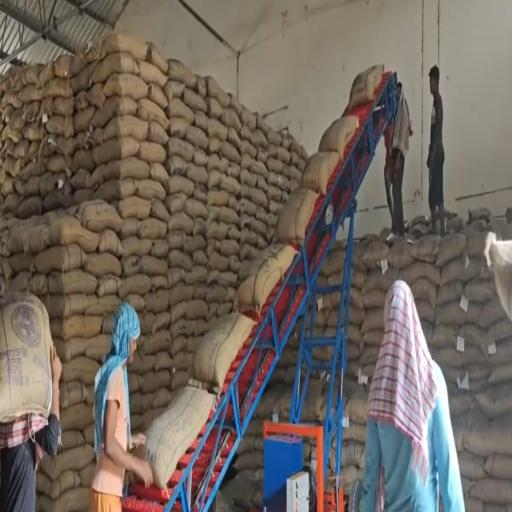Rice-bag-10: (144, 387, 214, 489), (0, 292, 53, 422), (192, 312, 255, 392), (235, 243, 297, 314), (483, 232, 512, 321), (276, 189, 319, 242), (346, 64, 384, 111), (301, 151, 340, 195), (319, 116, 358, 156)
c-belt: (122, 72, 396, 511)
